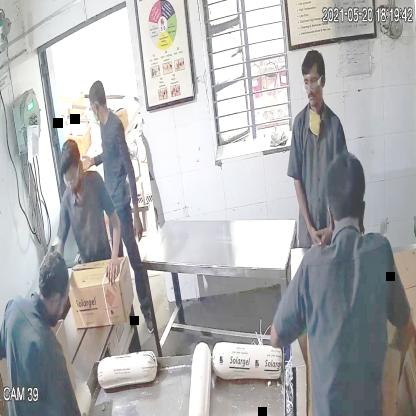goggles: (300, 73, 326, 91)
